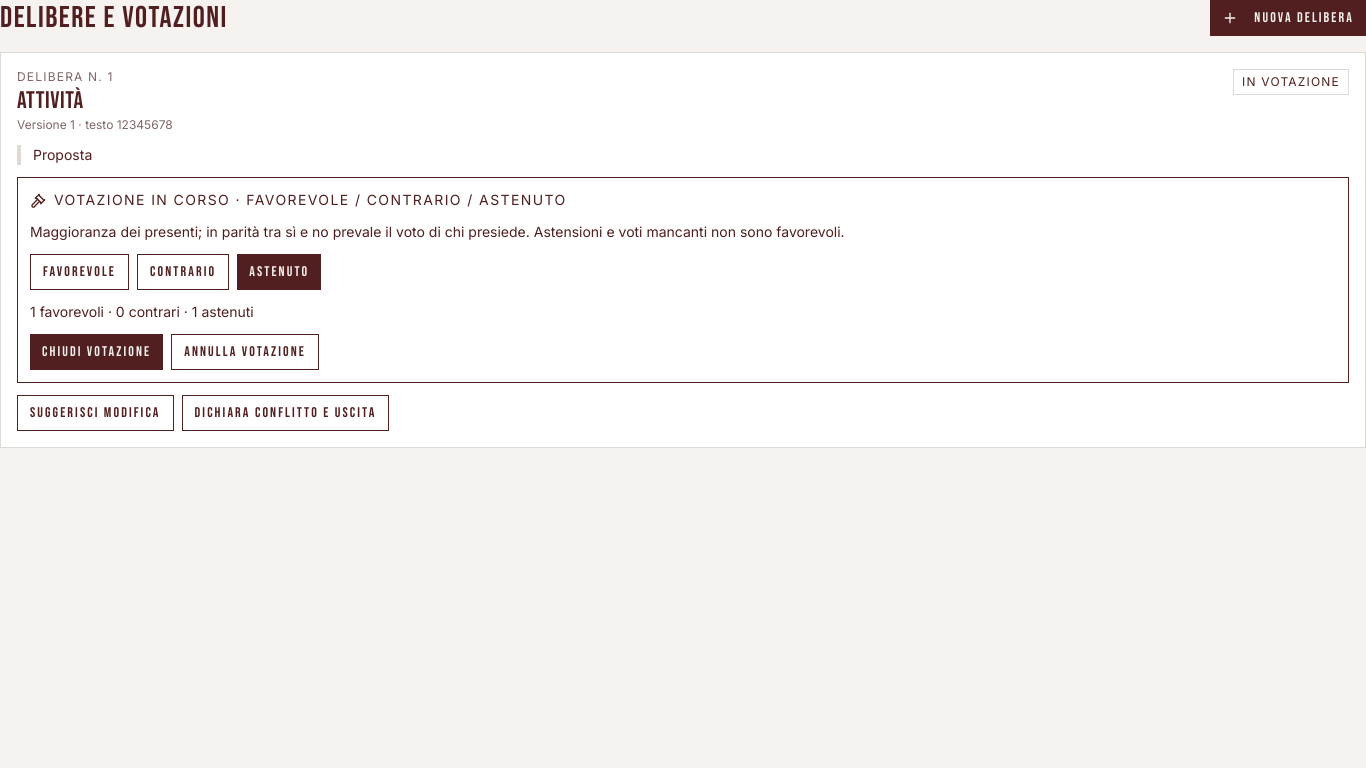
Test: Recorded voting identities and controls › retains voting identities when parsing server rows and selects the right vote for homonyms
Later steps or results of the test are not shown.
Click the button "Chiudi votazione".
click(97, 352)  # box [30,334,163,370]
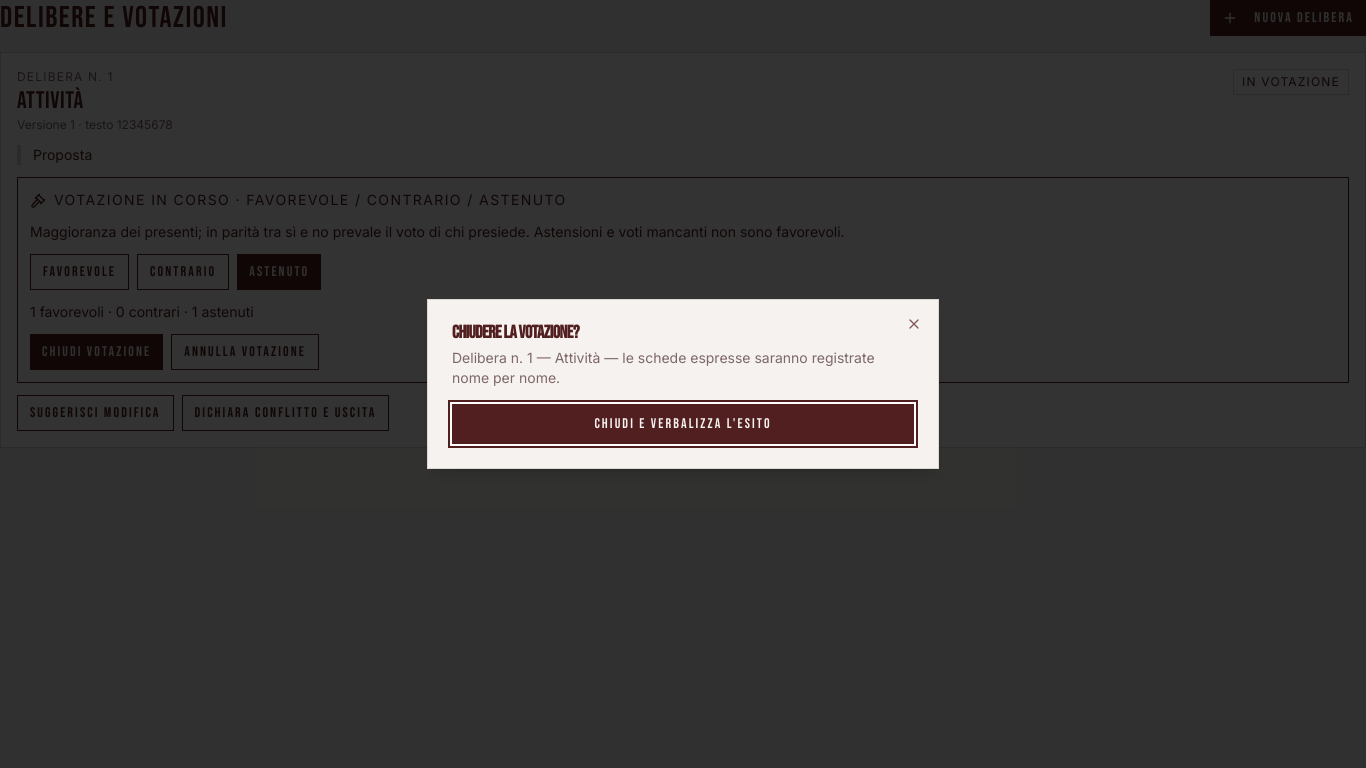
Now the button "Chiudi e verbalizza l'esito" is enabled, box [452,404,914,444]
